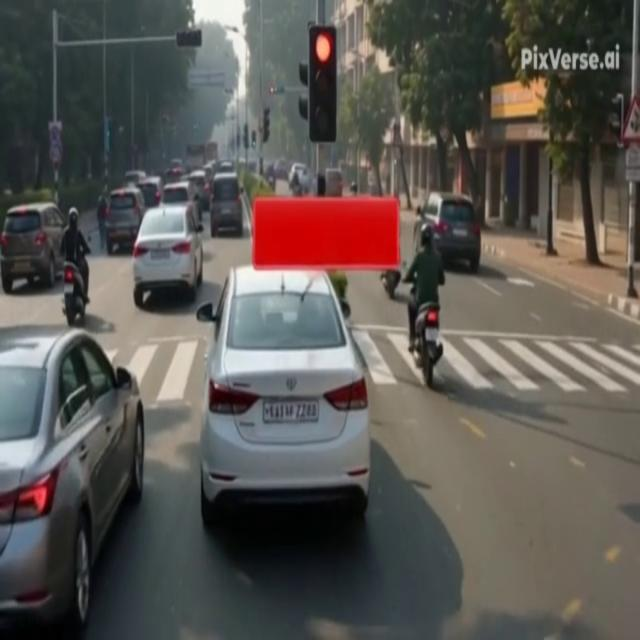car: (197, 265, 370, 527), (0, 327, 144, 639), (133, 204, 203, 307), (0, 202, 64, 294), (414, 192, 481, 272), (105, 186, 145, 255), (210, 173, 243, 237), (161, 180, 198, 215), (188, 170, 210, 219), (138, 176, 163, 207), (289, 164, 311, 193), (325, 168, 343, 197), (124, 170, 146, 186), (164, 168, 184, 183), (274, 159, 287, 180), (216, 160, 235, 174), (170, 159, 182, 169)
scooty: (413, 304, 443, 388), (62, 263, 85, 326), (380, 270, 401, 299)
traffic signal: (308, 25, 337, 143), (608, 94, 625, 146), (299, 63, 308, 119), (176, 30, 202, 48), (263, 108, 270, 143), (269, 85, 285, 95), (243, 124, 248, 149), (236, 128, 241, 148), (251, 130, 256, 148)
truck: (186, 144, 206, 172), (205, 141, 218, 163)
